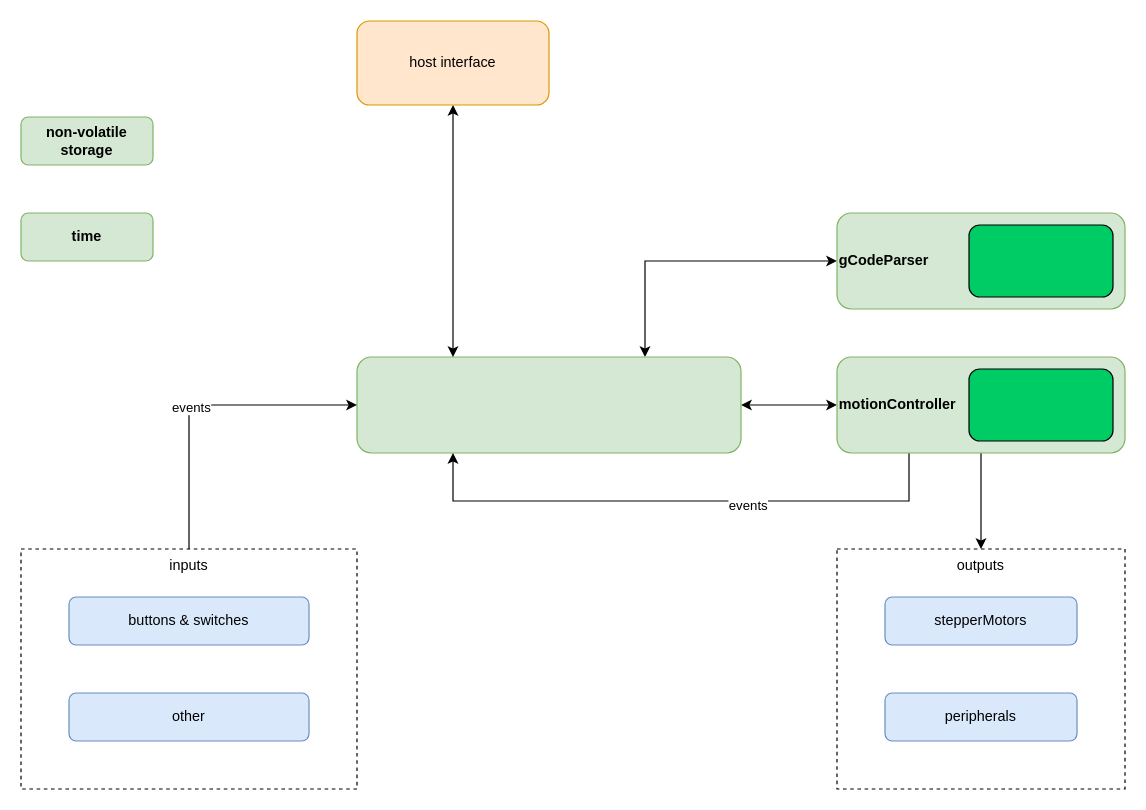
The diagram is 1146 pixels wide and 810 high, and some of its shapes have lost their labels. The centre of each missing label's shape, as x and y in pixels:
"gCodeState" belongs at point (1040, 260).
"mainController" belongs at point (548, 404).
"motionState" belongs at point (1040, 404).
